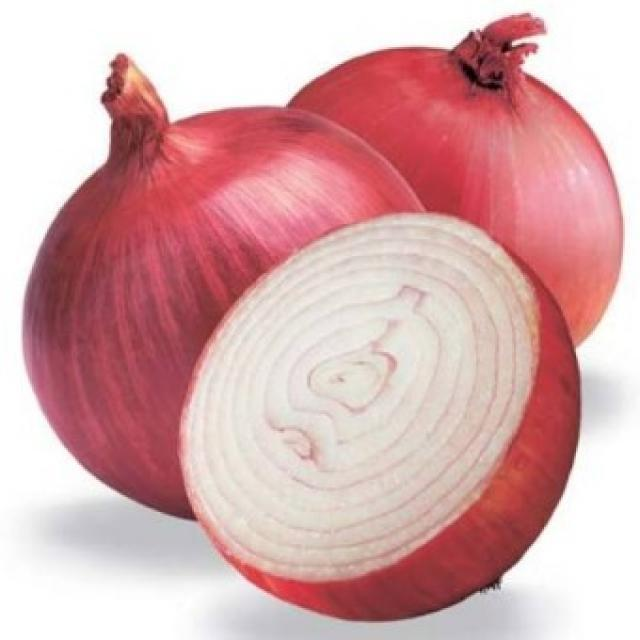Onion: (21, 53, 427, 523), (177, 214, 584, 620), (285, 12, 626, 348)
